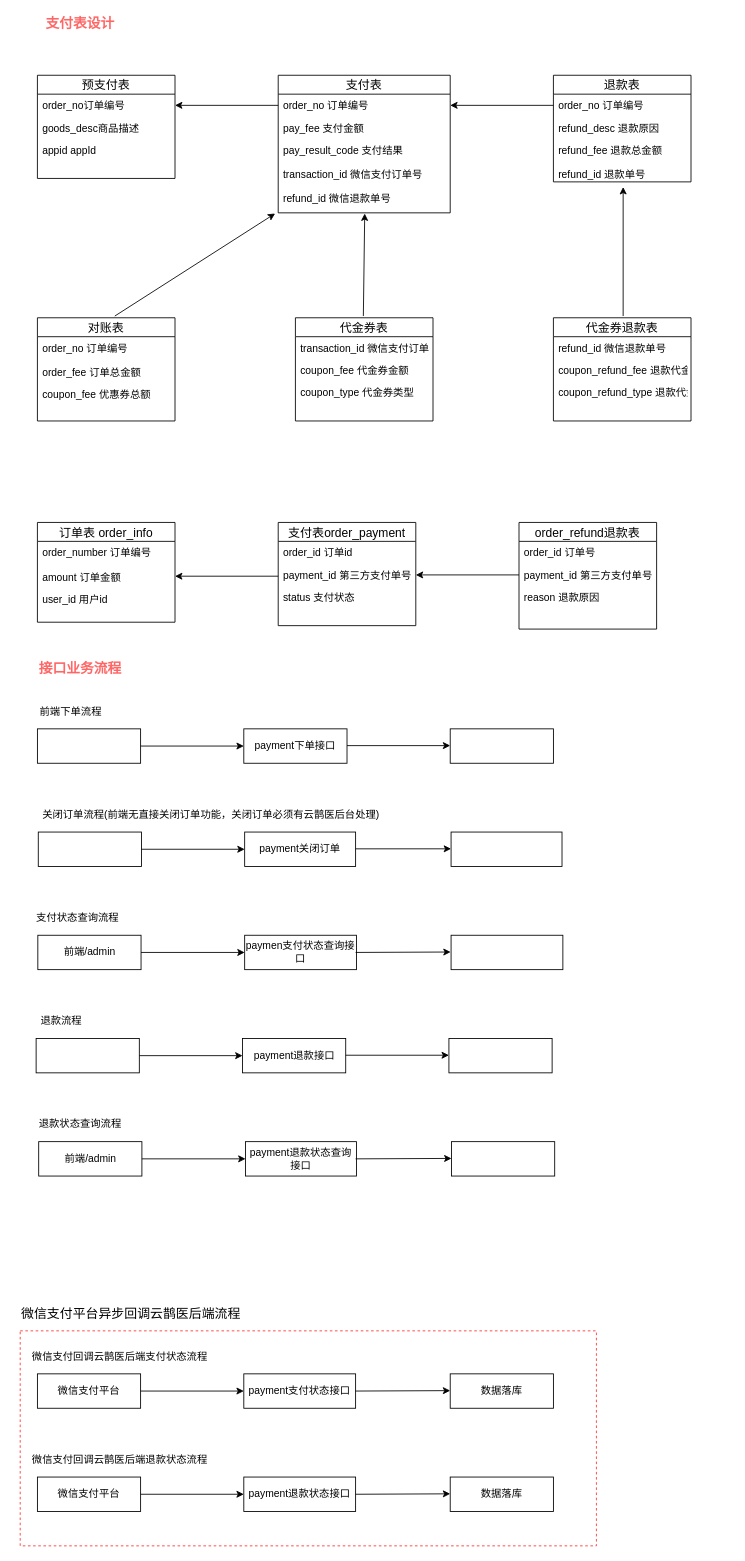
This 745x1561 diagram has some shape labels left out. The centre of each missing label's shape, as x and y in pixels:
admin后台/其他服务: point (89, 848)
前端: point (89, 745)
前端发起退款请求: point (87, 1055)
微信支付下单: point (501, 745)
微信支付关闭订单: point (506, 848)
微信支付状态查询: point (506, 952)
微信支付退款接口: point (500, 1055)
微信支付退款状态查询: point (503, 1158)
